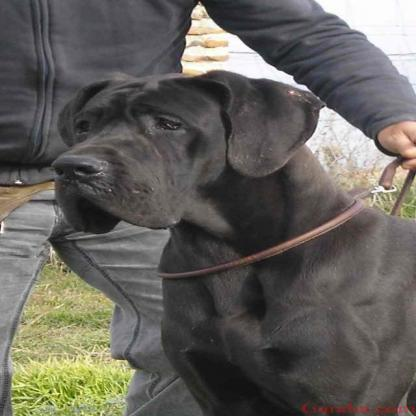Great_Dane: (49, 70, 413, 414)
